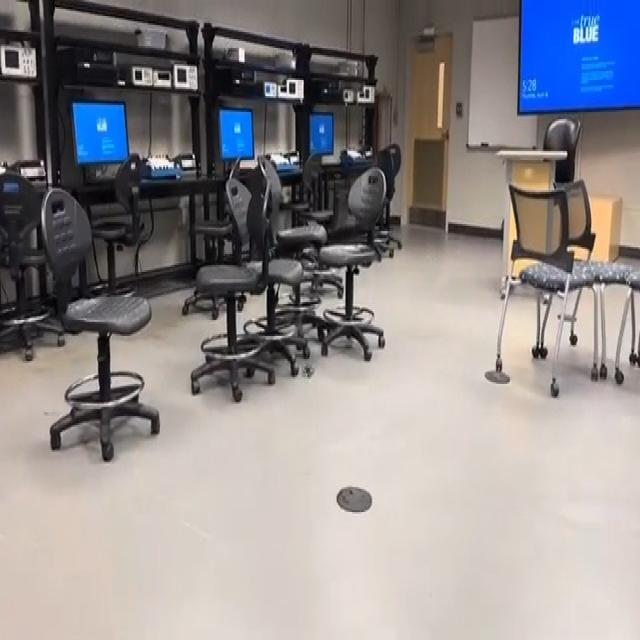drone: (293, 345, 324, 392)
